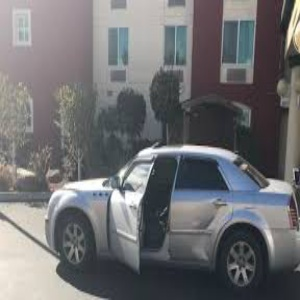door: (158, 197, 216, 264)
